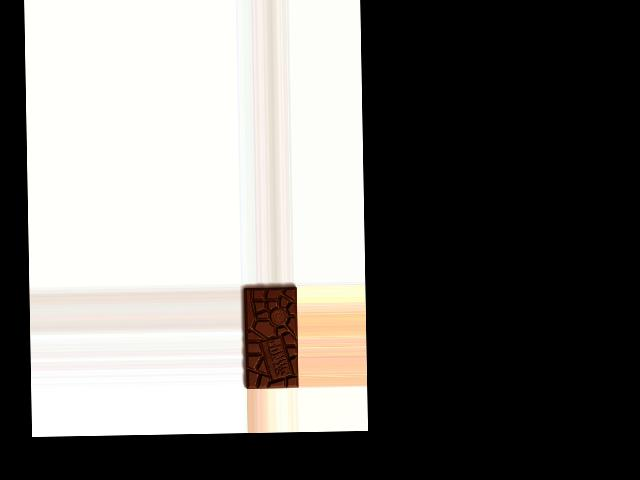chocolate: (241, 285, 298, 389)
